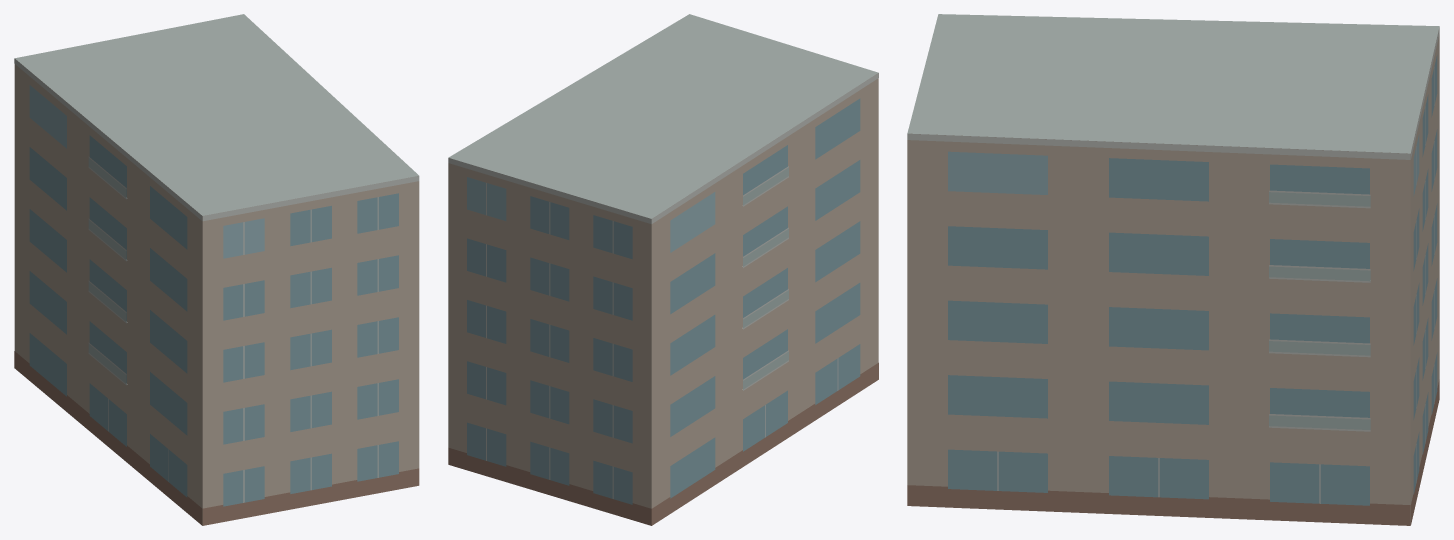
Rendered from survey-upis-33027651.glb.
3 views of the same model, side by side, from view 1: azimuth 30°, elevation 25°; view 2: azimuth 150°, elevation 25°; view 3: azimuth 270°, elevation 25° (orthographic). The views are drawn at different scales.
Parts seen in each view (by area): view 1: survey-upis-33027651.tmp; view 2: survey-upis-33027651.tmp; view 3: survey-upis-33027651.tmp.
Boxes of the visible parts, left/top/right/bottom form: survey-upis-33027651.tmp: left=14, top=14, right=419, bottom=525; survey-upis-33027651.tmp: left=448, top=14, right=878, bottom=525; survey-upis-33027651.tmp: left=907, top=14, right=1439, bottom=525.
Size of the model in its own units: 11.35 by 14.1 by 18.28.
